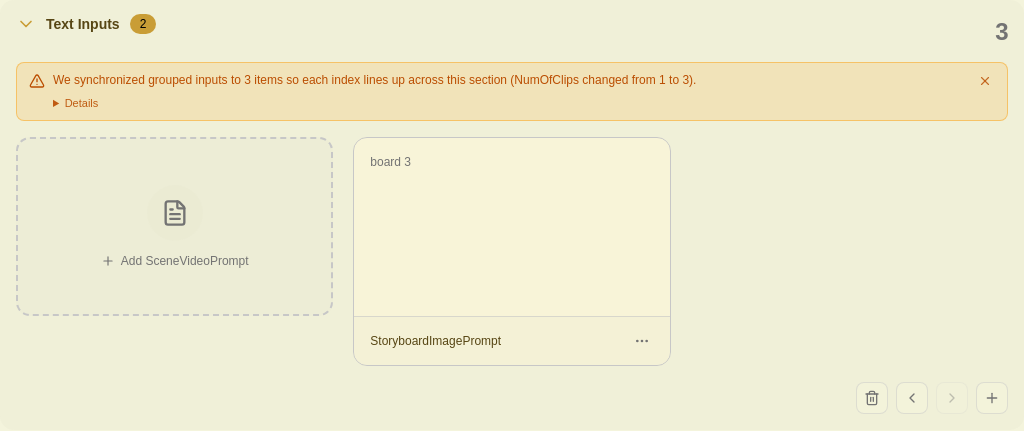
it: InputsPanel loop-grouped indexed controls › auto-normalizes mismatched member lengths/counter and shows dismissible warning
Check: the text "We synchronized grouped inputs to 3 items" is shown, box [53,73,696,87]
Click the button named "Dismiss loop normalization warning".
click(985, 81)  # box [975,71,995,91]
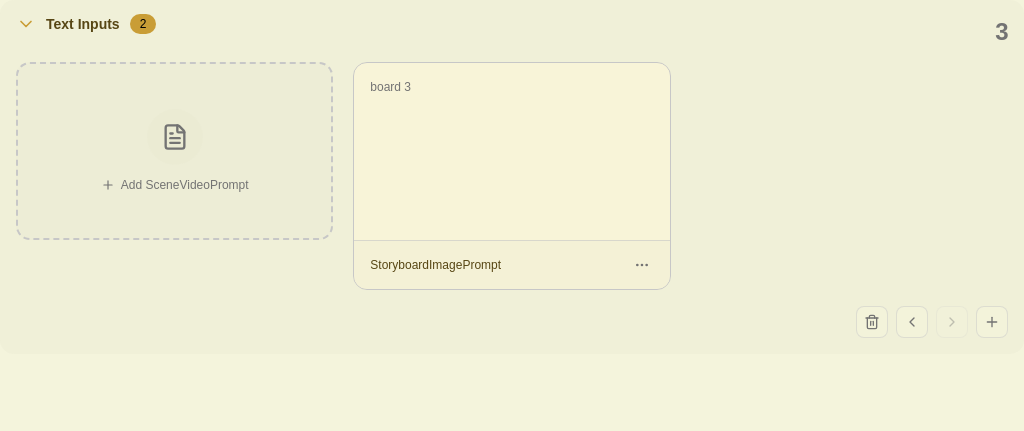
Check: the text "We synchronized grouped inputs to 3 items" is gone
